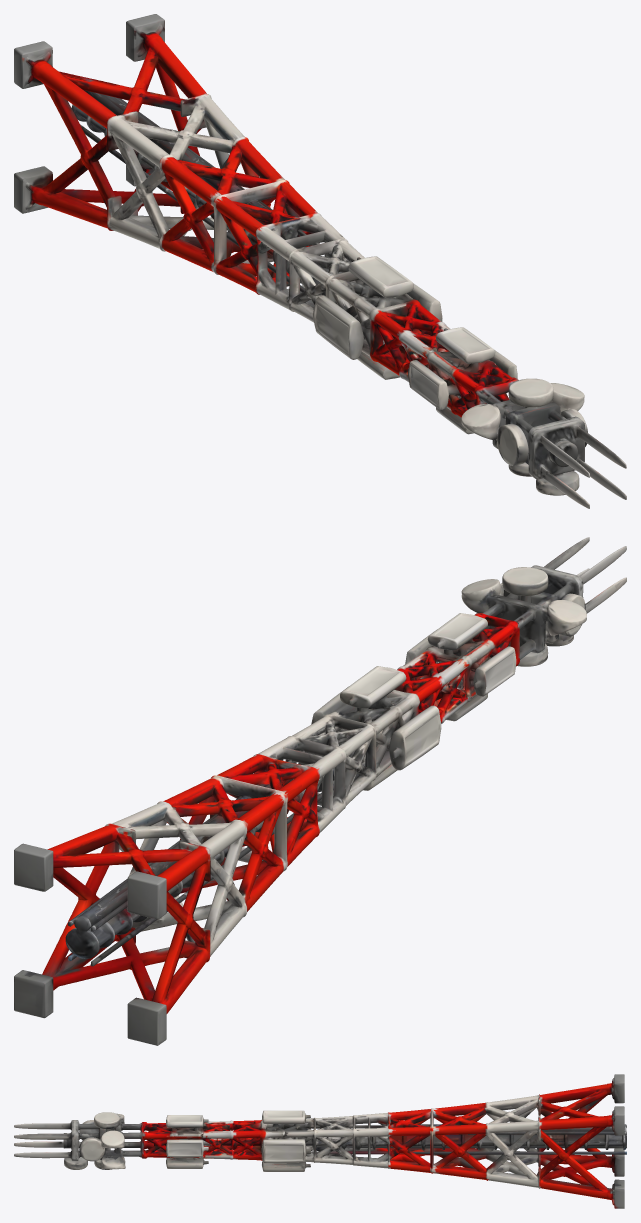
The model's file is sotovaya_vyshka.glb.
The picture shows the model from 3 angles, top to bottom: view 1: azimuth 30°, elevation 25°; view 2: azimuth 150°, elevation 25°; view 3: azimuth 270°, elevation 25°; orthographic projection. The views are drawn at different scales.
Visible parts, largest first — view 1: sotovaya_vyshka; view 2: sotovaya_vyshka; view 3: sotovaya_vyshka.
Boxes of the visible parts, left/top/right/bottom form: sotovaya_vyshka: left=14, top=14, right=626, bottom=508; sotovaya_vyshka: left=14, top=537, right=626, bottom=1045; sotovaya_vyshka: left=14, top=1074, right=626, bottom=1208.
Size of the model in its own units: 5.71 by 6.1 by 36.
1 material, 1 textured.
